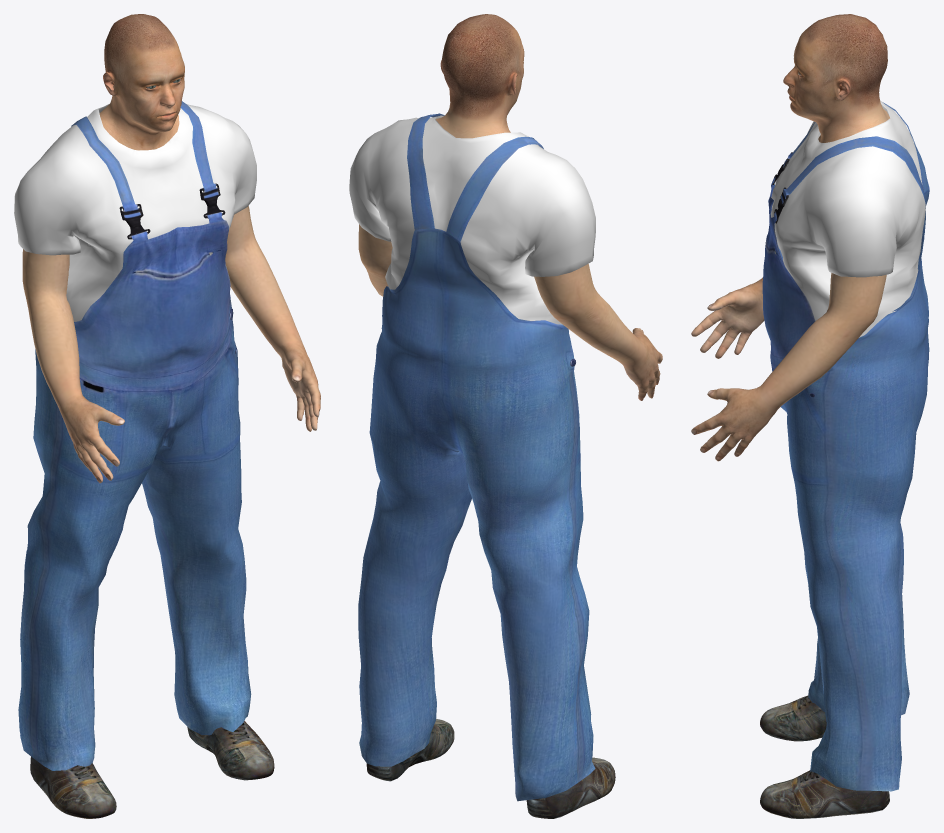
The model's file is Obrero_gordo.obj.
3 renders of one model, left to right at view 1: azimuth 30°, elevation 25°; view 2: azimuth 150°, elevation 25°; view 3: azimuth 270°, elevation 25°, orthographic.
Visible parts, largest first — view 1: male_worksuit01.obj, base.obj, shoes02.obj; view 2: male_worksuit01.obj, base.obj, shoes02.obj; view 3: male_worksuit01.obj, base.obj, shoes02.obj.
Boxes of the visible parts, <box> form: male_worksuit01.obj: <box>14,101,256,770</box>; base.obj: <box>22,14,320,483</box>; shoes02.obj: <box>30,721,274,818</box>; male_worksuit01.obj: <box>349,113,595,801</box>; base.obj: <box>358,14,662,400</box>; shoes02.obj: <box>366,718,615,818</box>; male_worksuit01.obj: <box>762,100,929,791</box>; base.obj: <box>691,14,889,461</box>; shoes02.obj: <box>760,695,889,818</box>.
Bounding box in the file's own units: 0.5989 × 1.76 × 0.5049.
Materials: 6 (6 with a texture image).
